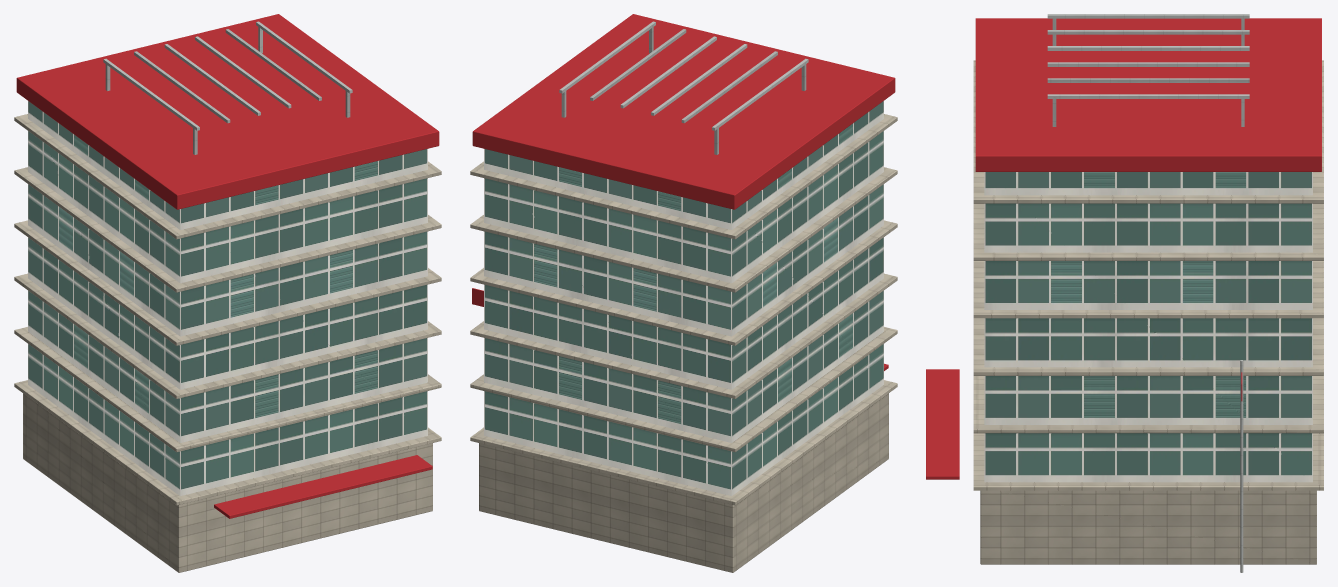
The model's file is LM_ENV_TowerDAP.glb.
3 views of the same model, side by side, from view 1: azimuth 30°, elevation 25°; view 2: azimuth 150°, elevation 25°; view 3: azimuth 270°, elevation 25° (orthographic). The views are drawn at different scales.
Parts seen in each view (by area): view 1: TowerDAP; view 2: TowerDAP; view 3: TowerDAP.
Part boxes in pixels (x1,y1,x2,y2): TowerDAP: (14, 14, 441, 572); TowerDAP: (470, 14, 897, 572); TowerDAP: (926, 14, 1323, 572).
Size of the model in its own units: 18.95 by 24.69 by 20.1.
Materials: 4 (3 with a texture image).
